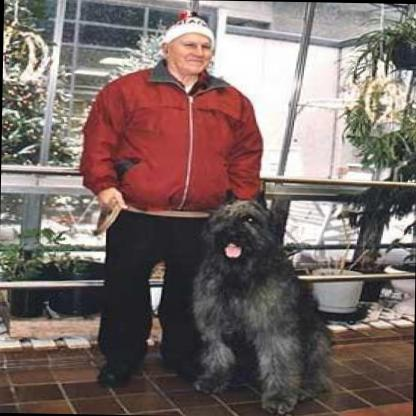Bouvier_des_Flandres: (188, 184, 334, 414)
